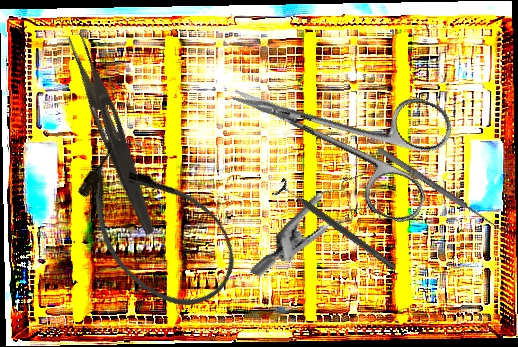Cannula: (54, 130, 257, 330)
Dressing Forceps: (59, 31, 166, 237)
Fixation Ring: (271, 176, 401, 277)
Hook Surgical: (374, 140, 513, 237)
Iris Scissors: (211, 32, 460, 229)
Speculum: (249, 146, 395, 312)
